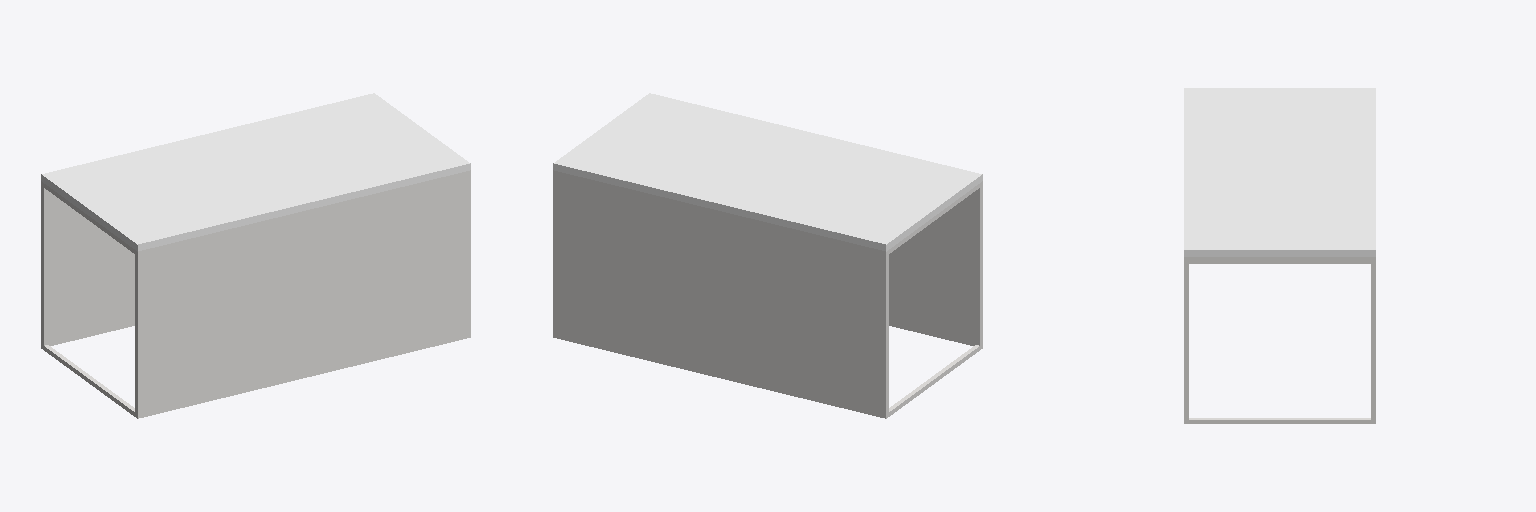
File: Table.obj
The picture shows the model from 3 angles: view 1: azimuth 30°, elevation 25°; view 2: azimuth 150°, elevation 25°; view 3: azimuth 270°, elevation 25°; orthographic projection.
Parts seen in each view (by area): view 1: Mesh1 Group1 ___14_1 Model, Mesh2 ___14_1 Model; view 2: Mesh1 Group1 ___14_1 Model, Mesh2 ___14_1 Model; view 3: Mesh2 ___14_1 Model, Mesh1 Group1 ___14_1 Model.
Boxes of the visible parts, x1=… form: Mesh1 Group1 ___14_1 Model: x1=41, y1=170, x2=470, y2=418; Mesh2 ___14_1 Model: x1=41, y1=93, x2=470, y2=251; Mesh1 Group1 ___14_1 Model: x1=553, y1=170, x2=982, y2=418; Mesh2 ___14_1 Model: x1=553, y1=93, x2=982, y2=251; Mesh2 ___14_1 Model: x1=1184, y1=88, x2=1375, y2=256; Mesh1 Group1 ___14_1 Model: x1=1184, y1=257, x2=1375, y2=423.
Size of the model in its own units: 59.06 by 29.53 by 29.53.